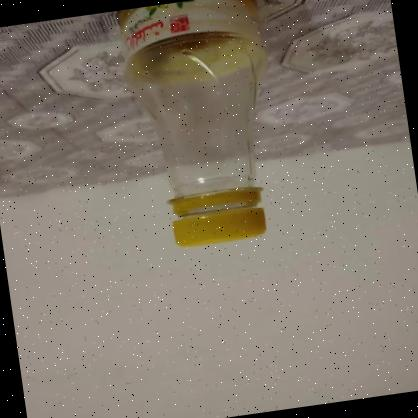bottle: (108, 0, 302, 268)
cap: (160, 178, 274, 254)
label: (113, 0, 265, 60)
